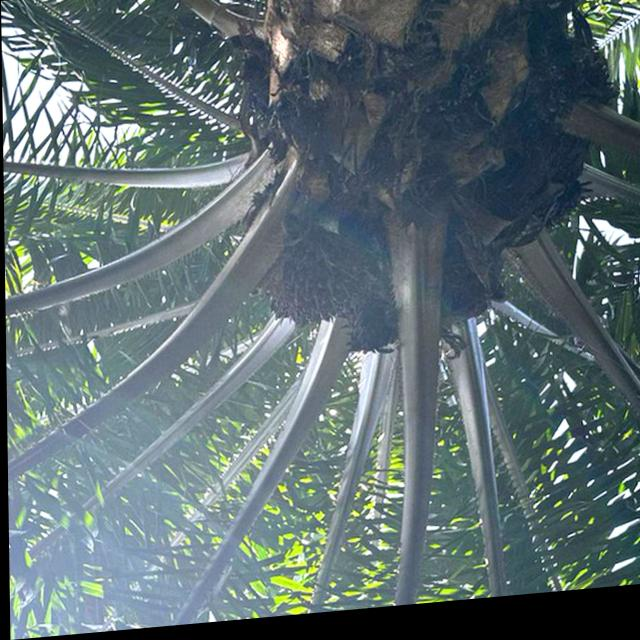ripe: (253, 235, 353, 340)
